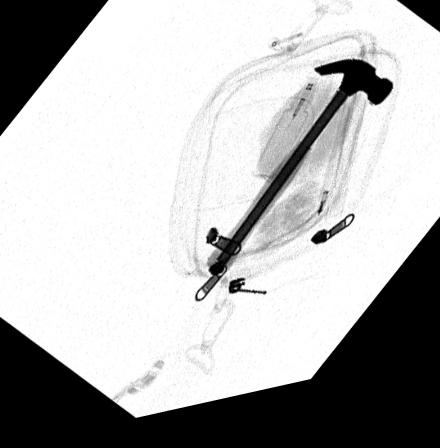Hammer: (204, 73, 392, 283)
